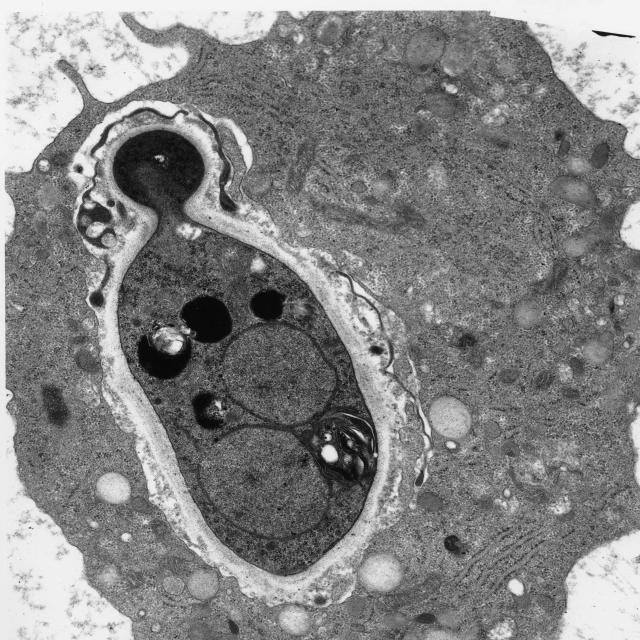Hydra: (69, 98, 435, 608)
